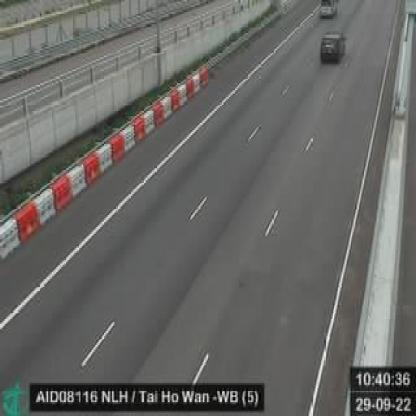Car: (316, 28, 347, 71), (317, 0, 339, 21)
